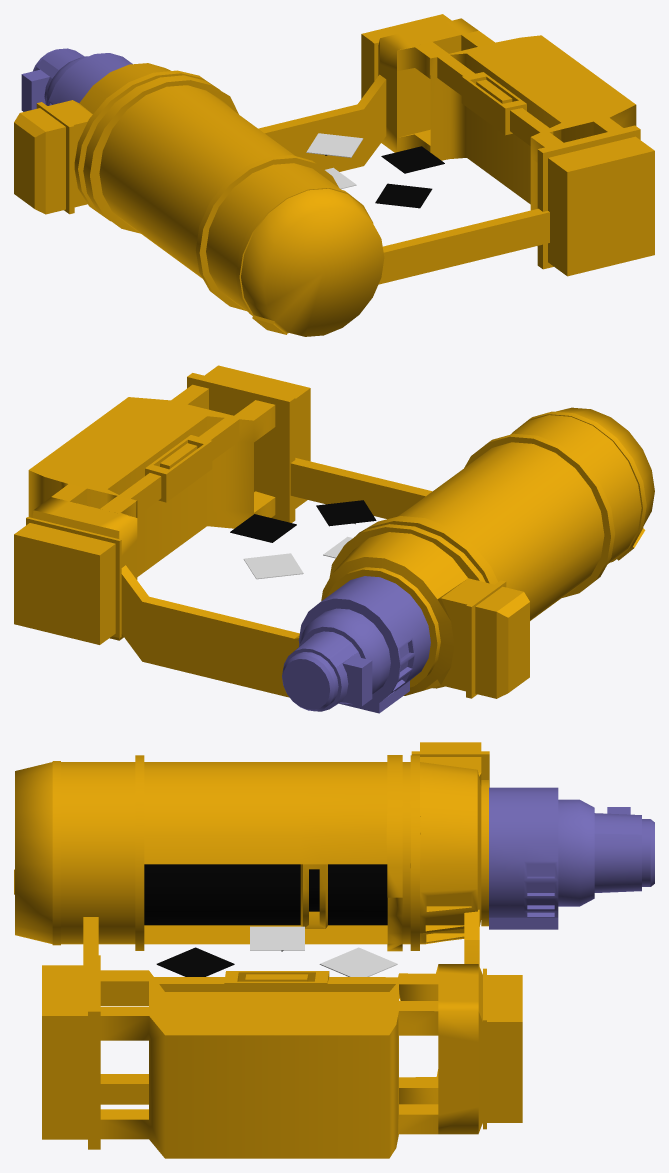
File: Crane.fbx
The picture shows the model from 3 angles, top to bottom: view 1: azimuth 30°, elevation 25°; view 2: azimuth 150°, elevation 25°; view 3: azimuth 270°, elevation 25°; orthographic projection. The views are drawn at different scales.
Parts seen in each view (by area): view 1: Crane_Motor, Instruction; view 2: Crane_Motor, Instruction; view 3: Crane_Motor, Instruction.
Boxes of the visible parts, <box> form: Crane_Motor: <box>14,14,654,336</box>; Instruction: <box>306,133,444,208</box>; Crane_Motor: <box>14,365,654,713</box>; Instruction: <box>230,500,376,579</box>; Crane_Motor: <box>14,742,654,1158</box>; Instruction: <box>156,926,397,976</box>.
Bounding box in the file's own units: 731 × 233 × 698.
